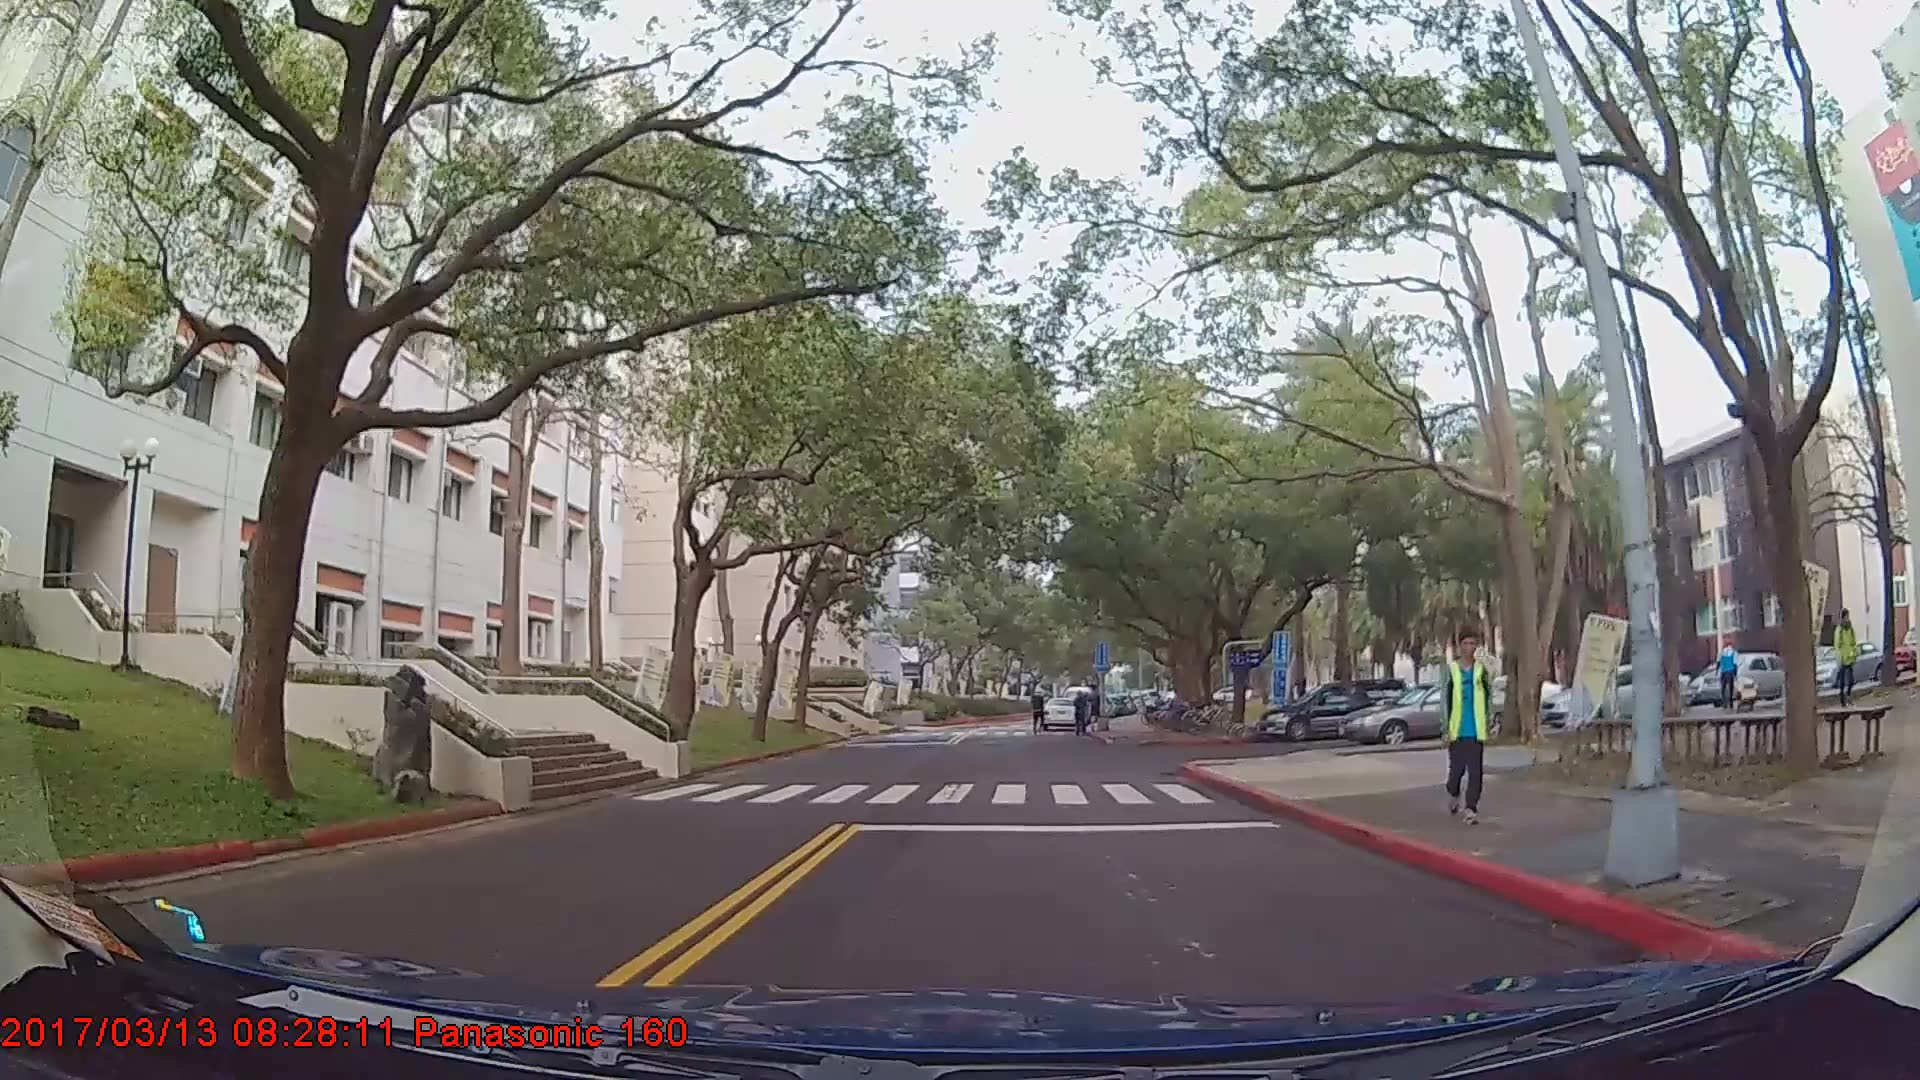pedestrian: (1431, 622, 1496, 820), (1831, 609, 1862, 715), (1715, 624, 1745, 716), (1030, 687, 1050, 736), (1071, 689, 1091, 734)
vehicle: (1339, 681, 1525, 747), (1541, 661, 1693, 730), (1257, 679, 1412, 738), (1694, 647, 1802, 706), (1040, 694, 1082, 732)
